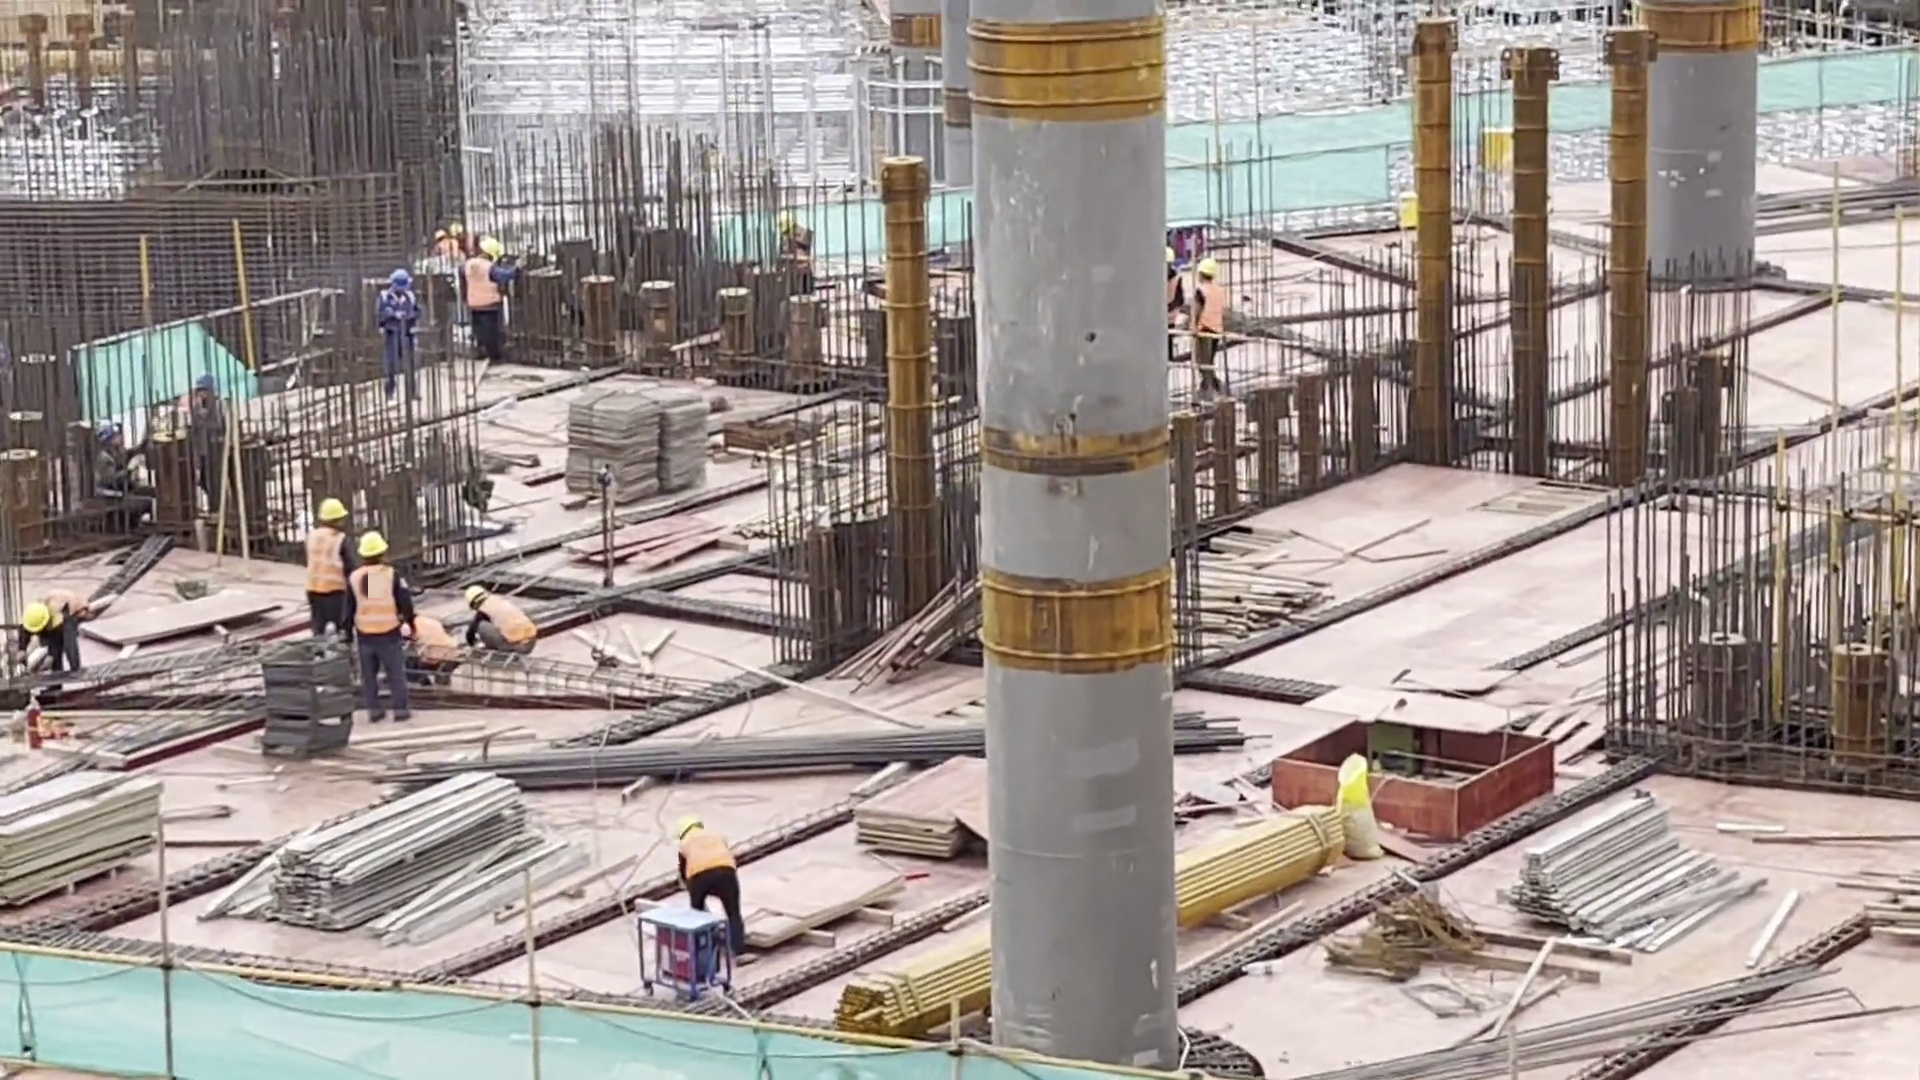board: (1, 772, 169, 901), (857, 745, 991, 866)
helmet: (21, 600, 54, 637), (355, 528, 388, 561), (317, 495, 348, 522)
person: (348, 534, 415, 723), (677, 823, 748, 970), (458, 239, 522, 372), (308, 494, 357, 637), (458, 577, 537, 663), (26, 588, 97, 677), (380, 266, 422, 406), (1195, 259, 1228, 390), (413, 614, 460, 690), (91, 412, 131, 501), (1164, 243, 1191, 363), (775, 208, 815, 257), (435, 224, 460, 260)
vest: (349, 566, 404, 638), (677, 830, 740, 879), (479, 590, 537, 644), (308, 526, 349, 596), (413, 613, 462, 663), (465, 255, 505, 312), (1195, 282, 1226, 336), (379, 290, 418, 331)
wood: (1200, 557, 1344, 645)
